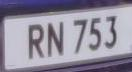3: (104, 12, 121, 56)
5: (87, 14, 105, 58)
7: (71, 14, 89, 60)
N: (46, 17, 68, 62)
R: (25, 19, 48, 64)
